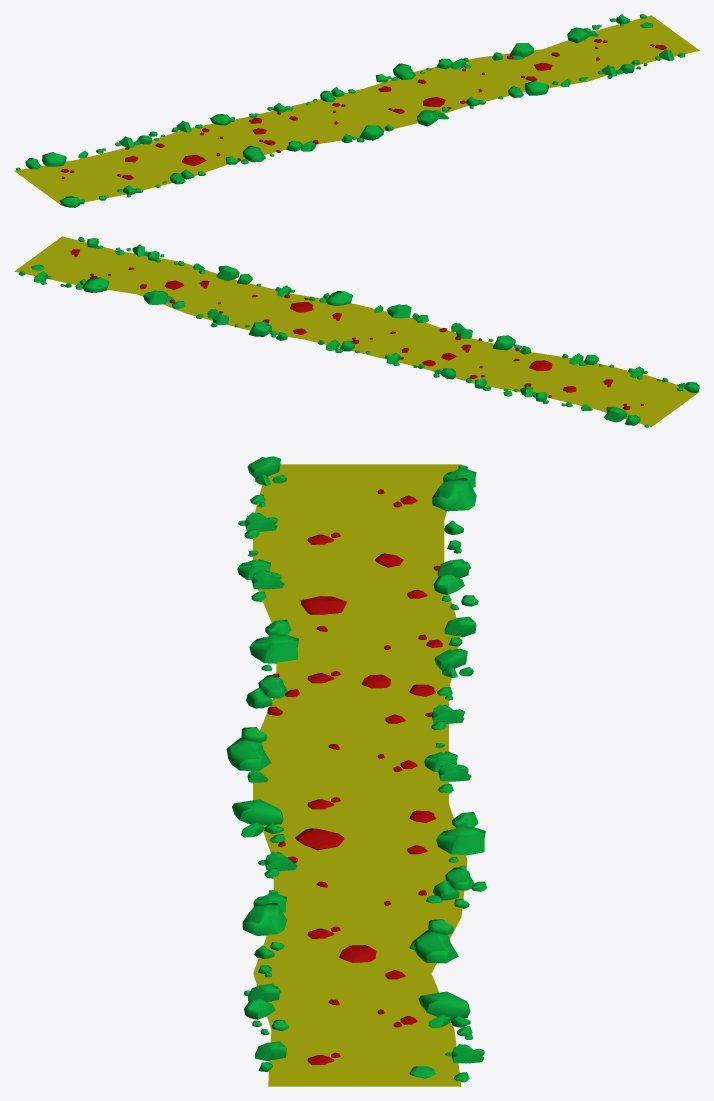
The model's file is sand_path.fbx.
3 views of the same model, one above another, from view 1: azimuth 30°, elevation 25°; view 2: azimuth 150°, elevation 25°; view 3: azimuth 270°, elevation 25° (orthographic). The views are drawn at different scales.
Visible parts, largest first — view 1: path1, side_stones, mid_stones; view 2: path1, side_stones, mid_stones; view 3: path1, side_stones, mid_stones.
Part boxes in pixels (left/top/right/bottom): path1: left=14, top=15, right=699, bottom=206; side_stones: left=16, top=14, right=685, bottom=207; mid_stones: left=60, top=39, right=666, bottom=179; path1: left=14, top=236, right=699, bottom=427; side_stones: left=18, top=237, right=699, bottom=427; mid_stones: left=70, top=249, right=643, bottom=410; path1: left=253, top=464, right=467, bottom=1086; side_stones: left=226, top=456, right=487, bottom=1082; mid_stones: left=267, top=489, right=442, bottom=1064.
Bounding box in the file's own units: 3.17 × 0.0538 × 0.5609.
